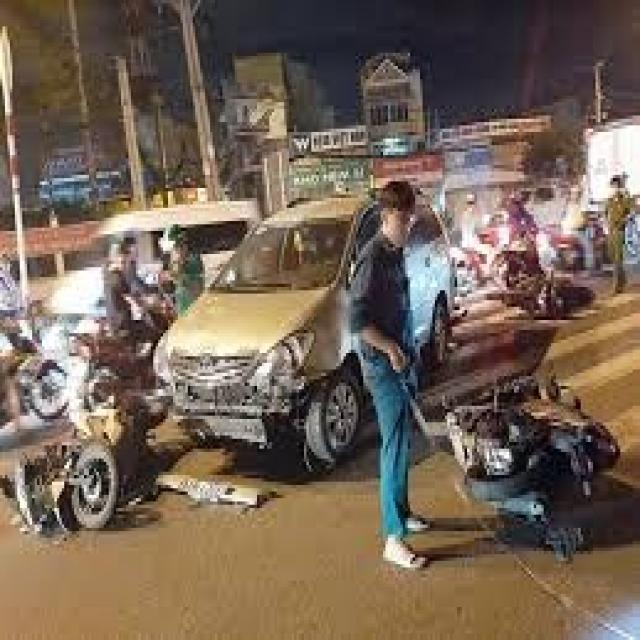accident: (100, 317, 362, 479), (430, 350, 622, 555), (0, 360, 168, 555), (480, 260, 608, 331)
